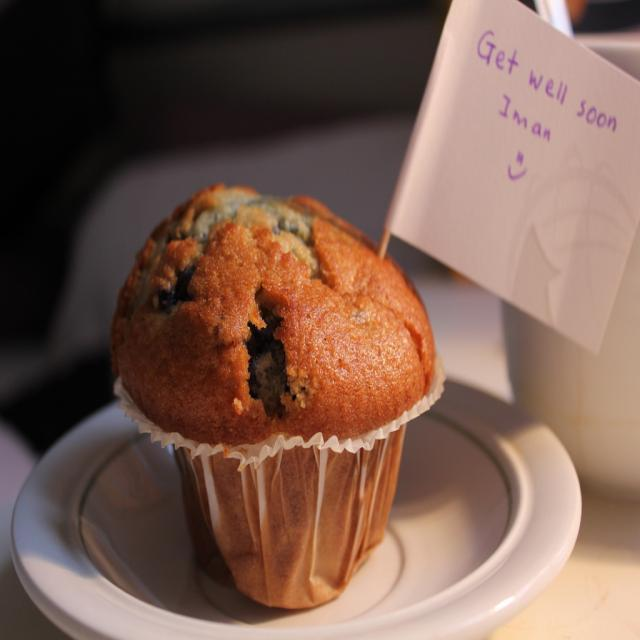Muffin: (107, 183, 447, 613)
